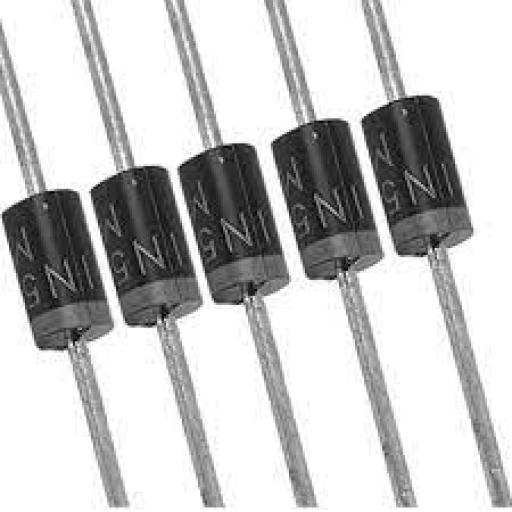DIODE: (0, 0, 510, 510), (254, 98, 394, 310), (361, 78, 484, 296), (164, 115, 292, 318), (86, 137, 195, 361), (5, 177, 114, 398)
